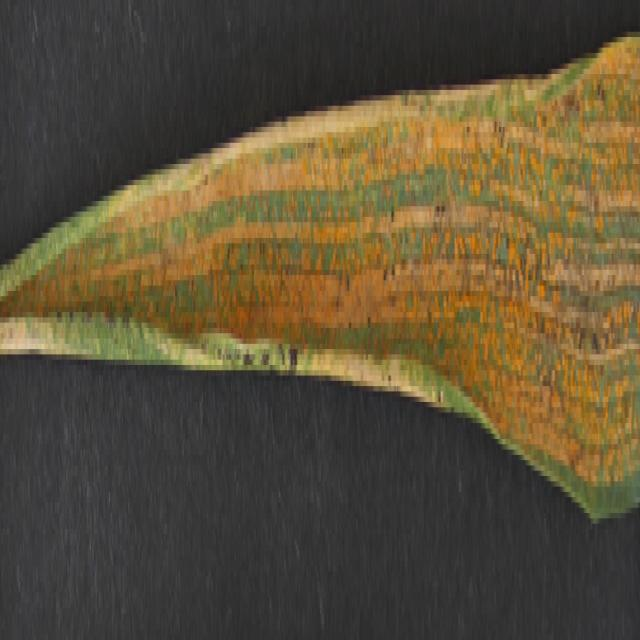leaf rust: (61, 5, 638, 502)
